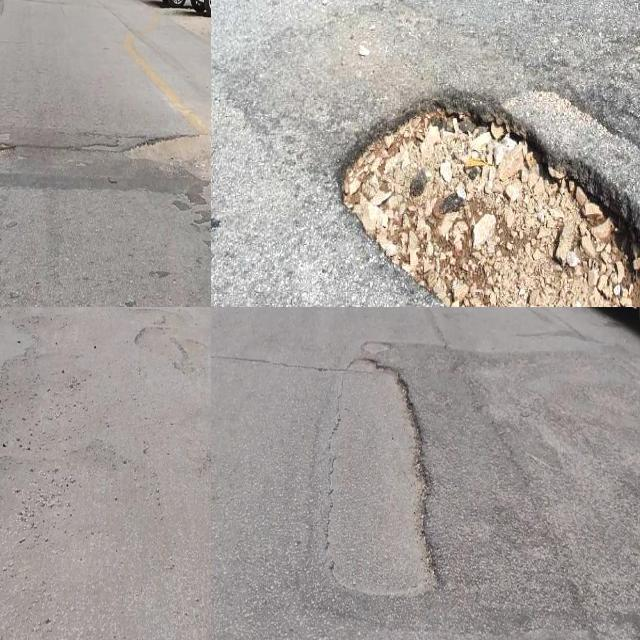Pothole: (341, 91, 640, 307), (323, 357, 444, 603), (121, 132, 211, 185), (134, 322, 191, 372)
